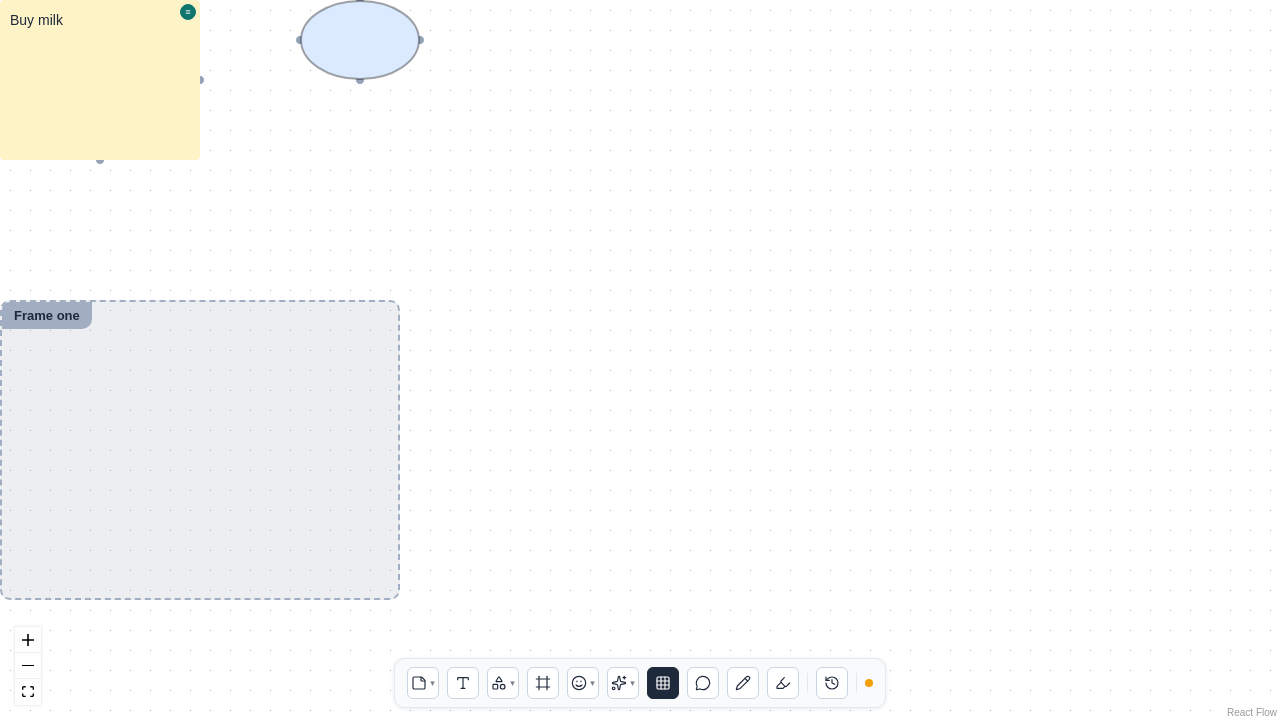
it: BoardCanvas › inside a DRAFT a node description opens in EDIT mode (Save present)
The image size is (1280, 720).
What coordinates should you click on to do the following:
click the button titled "View description"
I would click on:
 (188, 12)
Its box is [180, 4, 196, 20].
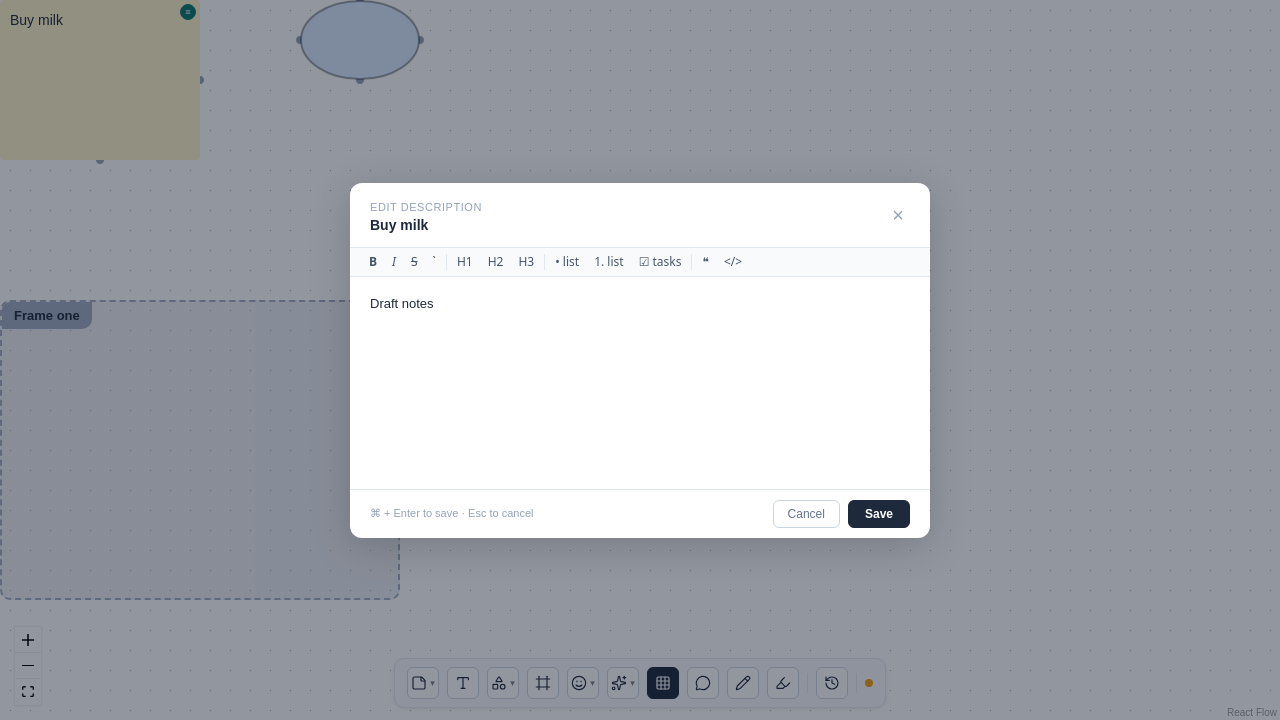
Now the text "Edit description" is shown, box [370, 200, 482, 212]
Now the button "Save" is shown, box [848, 500, 910, 528]
